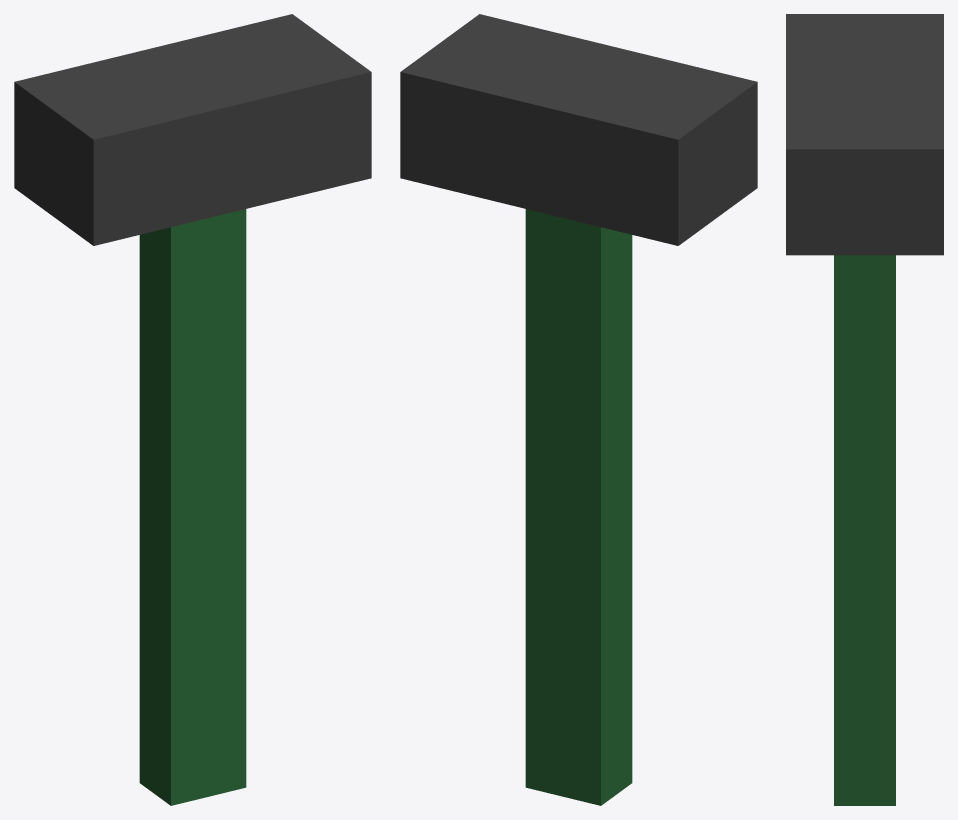
File: axe.glb
3 views of the same model, side by side, from view 1: azimuth 30°, elevation 25°; view 2: azimuth 150°, elevation 25°; view 3: azimuth 270°, elevation 25° (orthographic).
Visible parts, largest first — view 1: Cube, Cube.001; view 2: Cube, Cube.001; view 3: Cube.001, Cube.
Boxes of the visible parts, x1,y1,x2,y2 form: Cube: [139, 209, 246, 805]; Cube.001: [14, 14, 371, 245]; Cube: [525, 209, 632, 805]; Cube.001: [400, 14, 757, 245]; Cube.001: [786, 14, 943, 255]; Cube: [834, 255, 895, 805].
Bounding box in the file's own units: 1.05 × 2.57 × 0.5198.
1 material, 1 textured.
